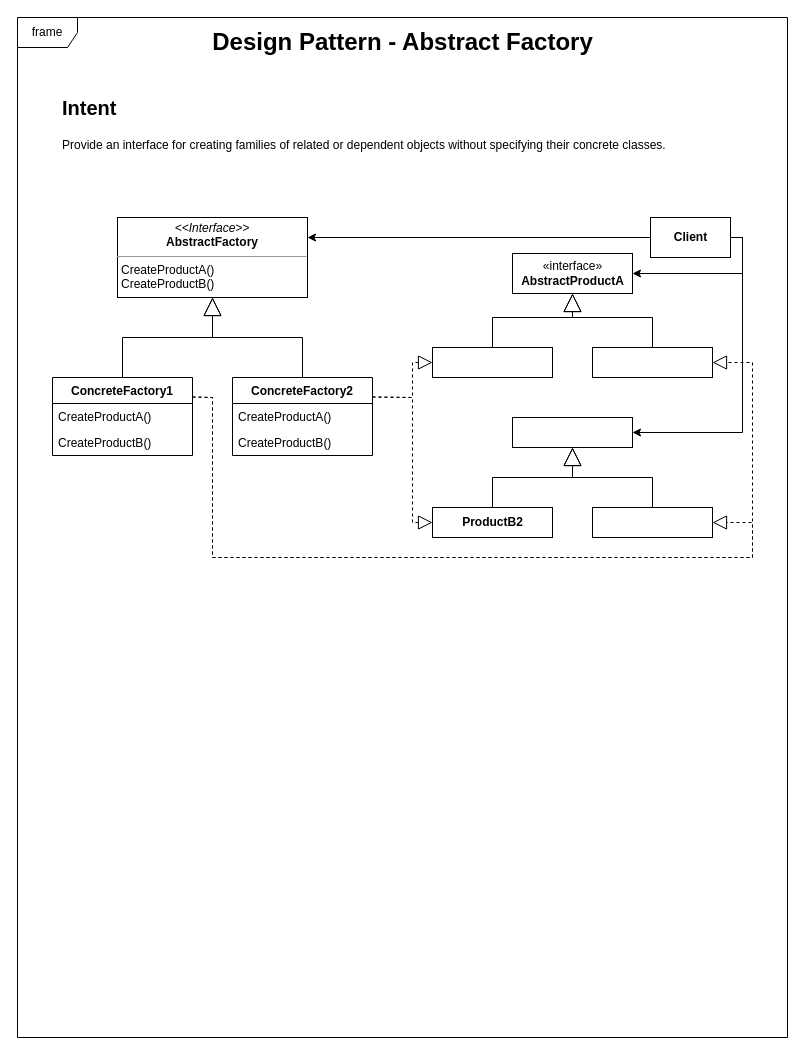
Image size: 805x1055. Some labels were removed from this diagram. The shapes that lost their labels are listed below. From the top down, each one's centre as x and y in pixels, then its label:
At [492,362]: "ProductA2".
At [652,362]: "ProductA1".
At [572,432]: "«interface» AbstractProductB".
At [652,522]: "ProductB1".
